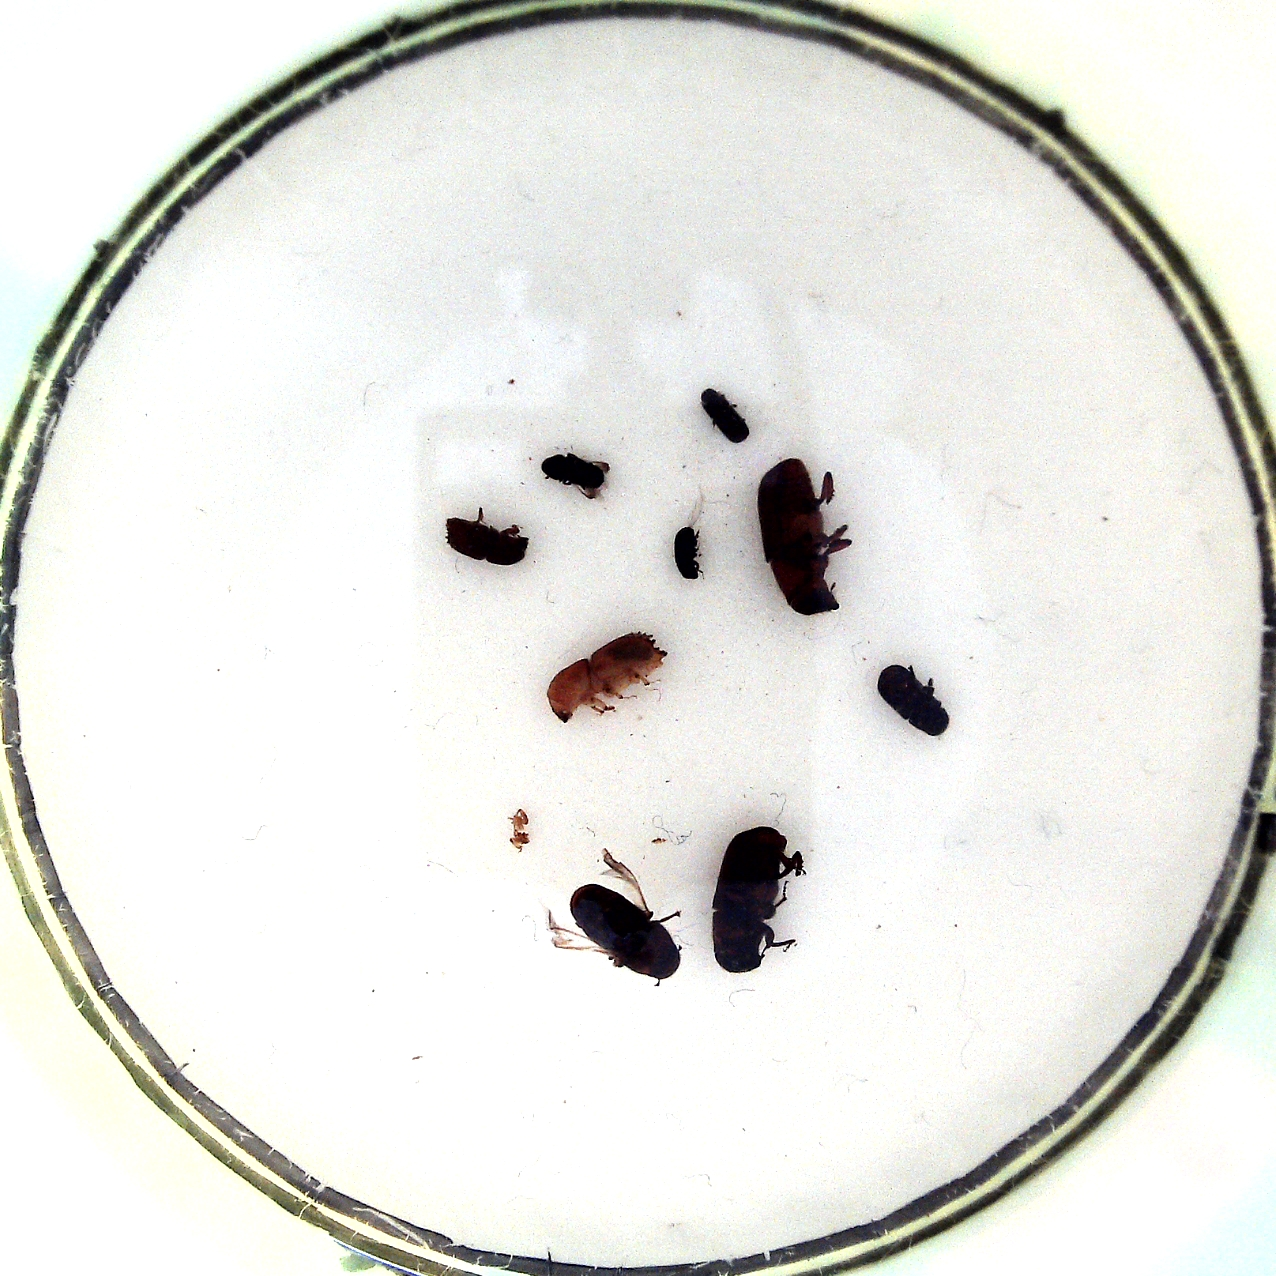Boerner: (539, 627, 682, 727)
Leconte: (542, 840, 691, 984), (753, 453, 855, 624), (708, 820, 806, 979)
Linnaeus: (441, 504, 533, 571)
armandi: (873, 658, 959, 742)
coleoptera: (695, 374, 760, 451), (539, 448, 619, 504), (668, 483, 710, 584)
